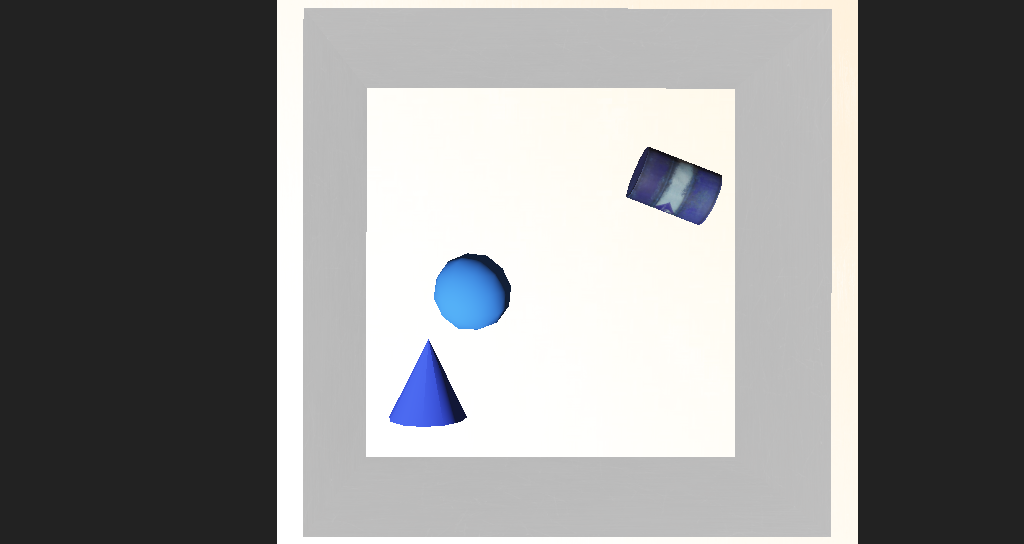cone: (566, 193, 647, 246)
cylinder: (371, 305, 438, 353)
sphere: (414, 260, 475, 303)
